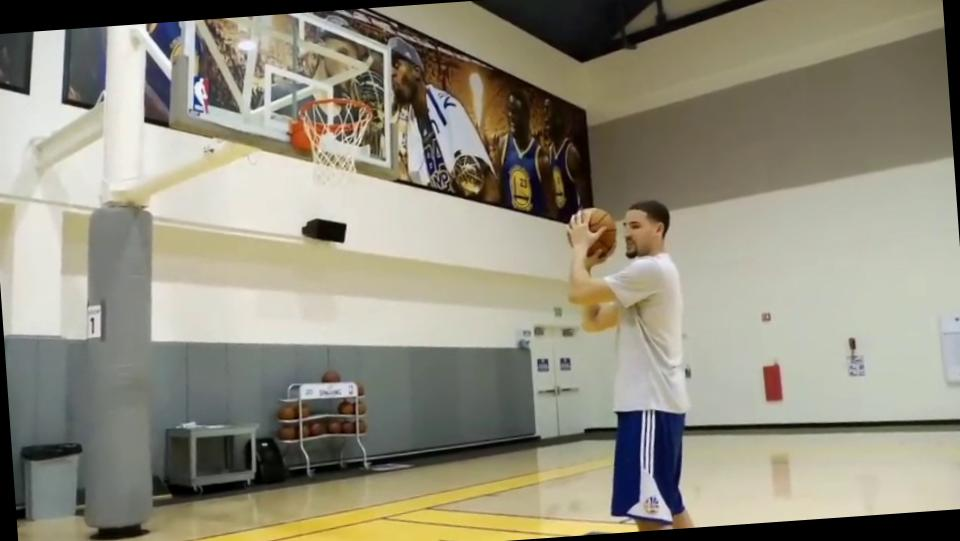hoop: (278, 87, 388, 148)
